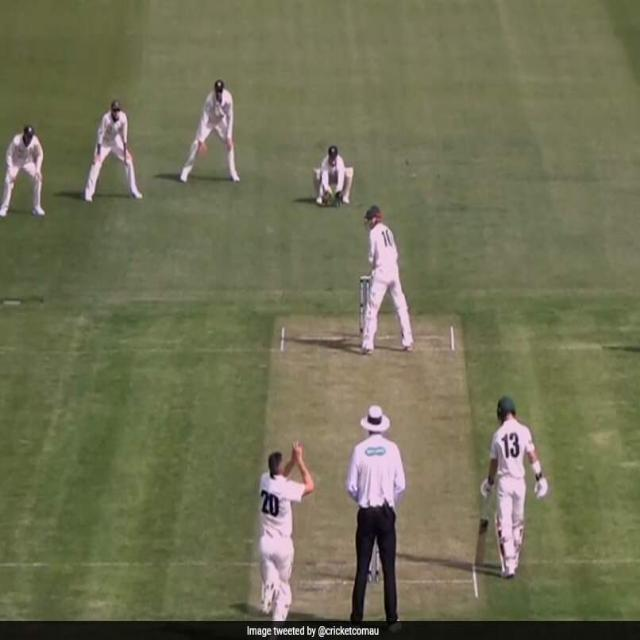stump: (357, 275, 373, 339)
